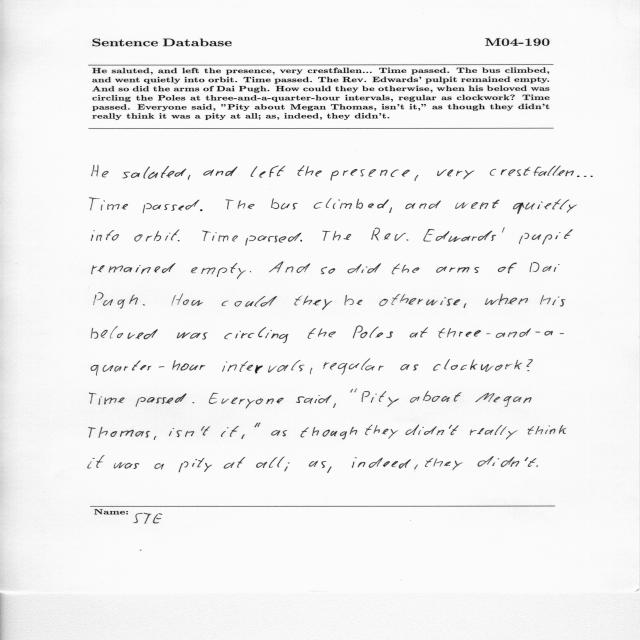word: (91, 360, 205, 376), (438, 328, 564, 338), (423, 227, 505, 242), (433, 359, 522, 372), (222, 360, 304, 374), (209, 393, 284, 408), (224, 327, 288, 343), (380, 294, 461, 306), (513, 199, 577, 214), (92, 263, 176, 274), (323, 359, 384, 374), (330, 169, 410, 180), (191, 263, 246, 279), (91, 326, 158, 339), (519, 229, 573, 245), (490, 166, 574, 176), (123, 166, 187, 179), (314, 198, 389, 209), (475, 393, 532, 407), (143, 200, 199, 213), (246, 233, 302, 246), (470, 425, 518, 440), (136, 393, 187, 407), (94, 293, 138, 309), (301, 427, 358, 439), (89, 427, 150, 438), (169, 426, 228, 437), (352, 458, 411, 469), (478, 456, 537, 467), (410, 391, 462, 403), (222, 296, 277, 307), (362, 391, 399, 407), (406, 425, 459, 436), (295, 295, 333, 310), (134, 230, 180, 242), (372, 227, 409, 241), (90, 198, 128, 211), (353, 326, 393, 338), (485, 294, 528, 305), (89, 392, 125, 405), (365, 425, 398, 439), (179, 458, 212, 472), (425, 458, 463, 470), (269, 262, 310, 273), (202, 230, 238, 242), (251, 166, 285, 178), (455, 200, 500, 209), (172, 293, 203, 306), (528, 425, 566, 435), (437, 170, 474, 180), (203, 167, 238, 177), (348, 264, 381, 274), (405, 200, 441, 209), (307, 328, 336, 339), (256, 457, 285, 468), (296, 395, 331, 404), (91, 230, 119, 241), (436, 266, 479, 273), (297, 165, 322, 177), (530, 262, 560, 272), (540, 295, 565, 307), (271, 199, 298, 210), (392, 264, 419, 275), (226, 200, 255, 210), (323, 231, 352, 241), (224, 457, 245, 469), (177, 332, 207, 340), (88, 456, 105, 469), (498, 263, 517, 274), (409, 327, 428, 338), (92, 165, 109, 177), (345, 295, 363, 305), (114, 462, 139, 469), (400, 364, 419, 371), (309, 461, 327, 468), (271, 430, 287, 437), (230, 426, 239, 437), (321, 267, 335, 274), (526, 360, 533, 372), (154, 464, 164, 470), (284, 463, 290, 472), (255, 423, 261, 428), (327, 467, 332, 473), (350, 389, 357, 393), (241, 434, 245, 439), (414, 465, 418, 470), (415, 175, 418, 181), (389, 207, 392, 213), (577, 176, 593, 177), (333, 403, 336, 408), (310, 368, 312, 374), (154, 436, 157, 440), (188, 175, 190, 180), (464, 303, 466, 308), (200, 209, 203, 211), (178, 240, 180, 242), (300, 240, 302, 242), (143, 304, 145, 306), (536, 465, 538, 467), (193, 403, 195, 404), (250, 271, 251, 272)
